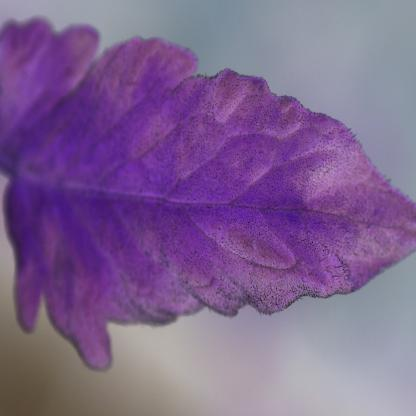Tomato leaf yellow virus: (6, 25, 410, 376)
